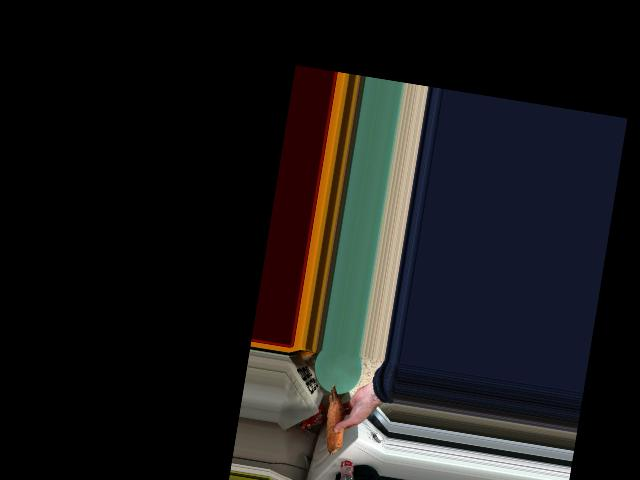sweet_potato: (318, 380, 348, 457)
